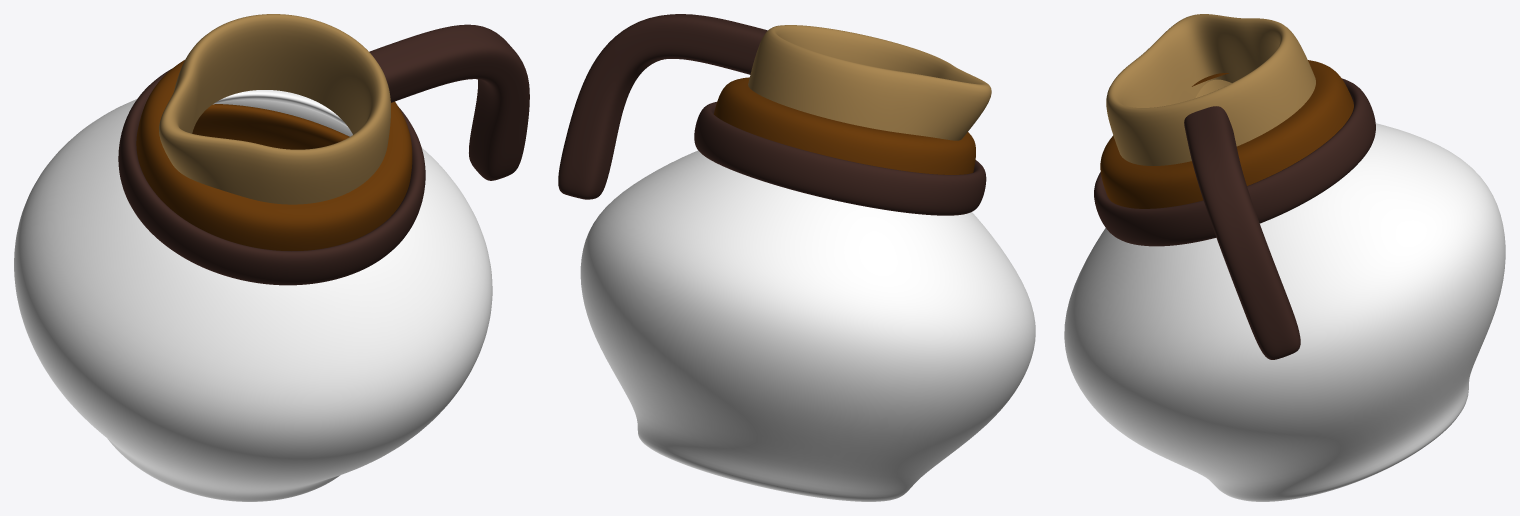
File: coffee-pot.glb
3 views of the same model, side by side, from view 1: azimuth 30°, elevation 25°; view 2: azimuth 150°, elevation 25°; view 3: azimuth 270°, elevation 25° (orthographic). The views are drawn at different scales.
Parts seen in each view (by area): view 1: Cylinder, Cylinder.006, Cylinder.005, Cylinder.003, Cube, Cylinder.007; view 2: Cylinder, Cylinder.006, Cube, Cylinder.003, Cylinder.005; view 3: Cylinder, Cylinder.006, Cube, Cylinder.005, Cylinder.003.
Boxes of the visible parts, x1=… form: Cylinder: x1=14, y1=90, x2=492, y2=501; Cylinder.006: x1=159, y1=14, x2=390, y2=204; Cylinder.005: x1=136, y1=60, x2=412, y2=250; Cylinder.003: x1=118, y1=69, x2=425, y2=285; Cube: x1=369, y1=24, x2=529, y2=180; Cylinder.007: x1=192, y1=104, x2=349, y2=149; Cylinder: x1=580, y1=150, x2=1035, y2=501; Cylinder.006: x1=748, y1=25, x2=991, y2=140; Cube: x1=558, y1=14, x2=767, y2=199; Cylinder.003: x1=694, y1=102, x2=986, y2=215; Cylinder.005: x1=713, y1=77, x2=975, y2=174; Cylinder: x1=1064, y1=123, x2=1505, y2=501; Cylinder.006: x1=1106, y1=14, x2=1315, y2=165; Cube: x1=1184, y1=106, x2=1300, y2=359; Cylinder.005: x1=1100, y1=60, x2=1353, y2=208; Cylinder.003: x1=1094, y1=78, x2=1375, y2=246.
Size of the model in its own units: 2.31 by 2.16 by 1.99.
